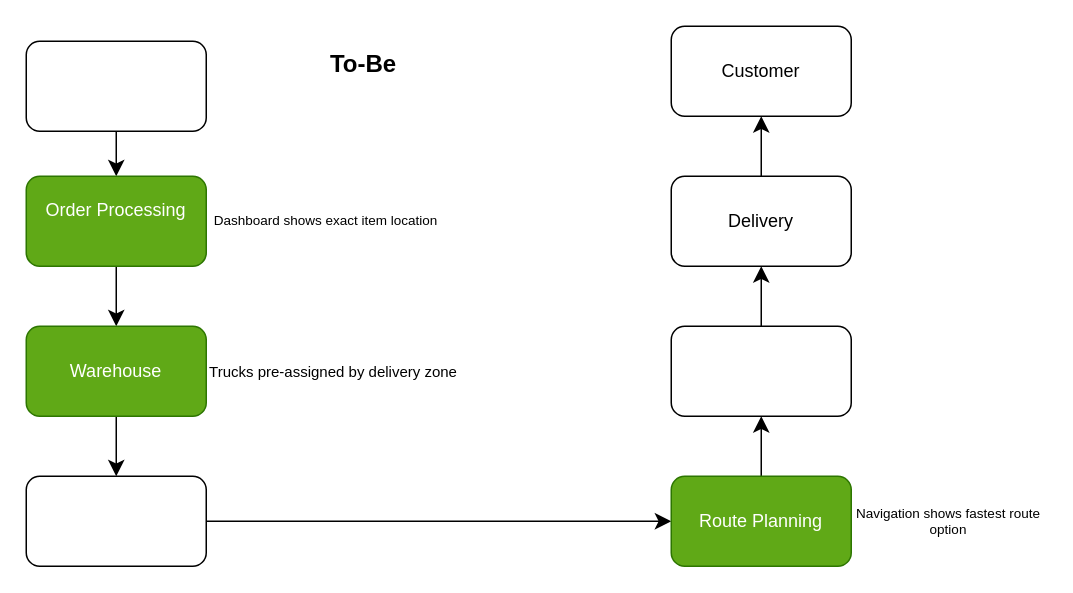
The diagram is 1073 pixels wide and 593 high, and some of its shapes have lost their labels. Here are the shapes that lost their labels. From the top down, the centre of each, then its label:
At point 115,85: "Customer Order".
At point 760,370: "Driver".
At point 115,520: "Vehicle Assignment".
